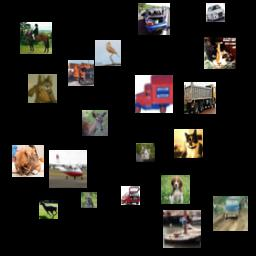airplane: (49, 150, 87, 188)
automobile: (138, 3, 170, 35), (121, 186, 140, 205), (206, 3, 225, 22)
bird: (95, 40, 121, 66)
cat: (204, 37, 236, 69), (28, 74, 57, 103), (174, 129, 203, 158), (136, 143, 155, 162), (81, 192, 97, 208)
deer: (82, 110, 108, 136), (39, 200, 58, 219)
dog: (12, 145, 44, 177), (161, 175, 190, 204)
ship: (163, 210, 201, 248)
truck: (135, 75, 173, 113), (213, 196, 248, 231), (184, 82, 216, 114), (68, 60, 94, 86)
